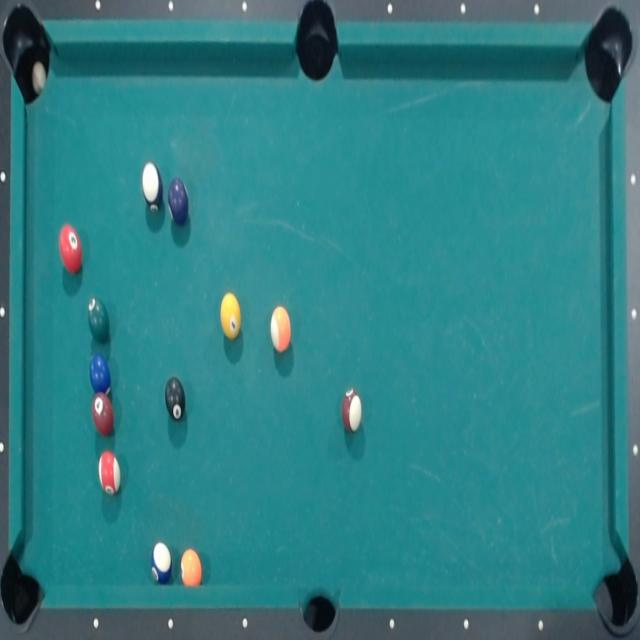black_8ball: (164, 376, 187, 421)
blue_solid: (88, 354, 113, 394)
blue_stripe: (151, 541, 173, 585)
green_solid: (87, 298, 110, 342)
maroon_solid: (92, 392, 115, 436)
maroon_stripe: (340, 386, 365, 433)
orange_solid: (179, 547, 203, 586)
orange_stripe: (268, 306, 292, 355)
playr: (167, 177, 190, 225)
purple_solid: (141, 160, 164, 215)
purple_stripe: (58, 224, 84, 276)
red_solid: (97, 451, 123, 496)
red_stripe: (219, 291, 244, 342)
